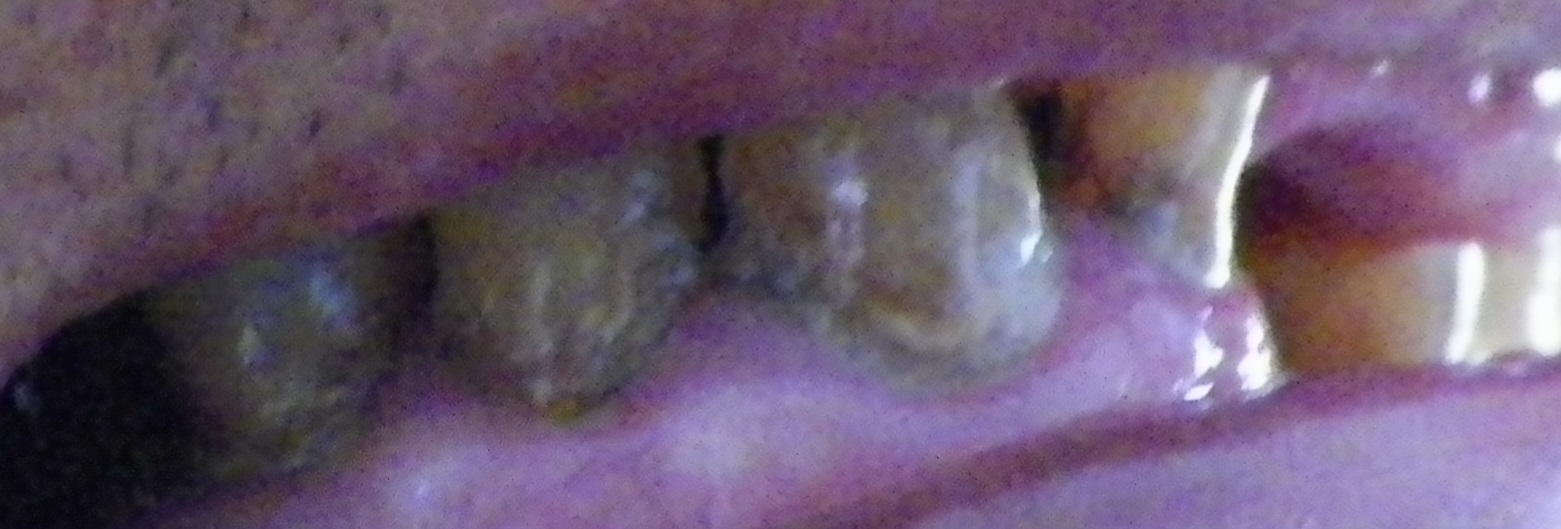boca: (186, 72, 1561, 506)
